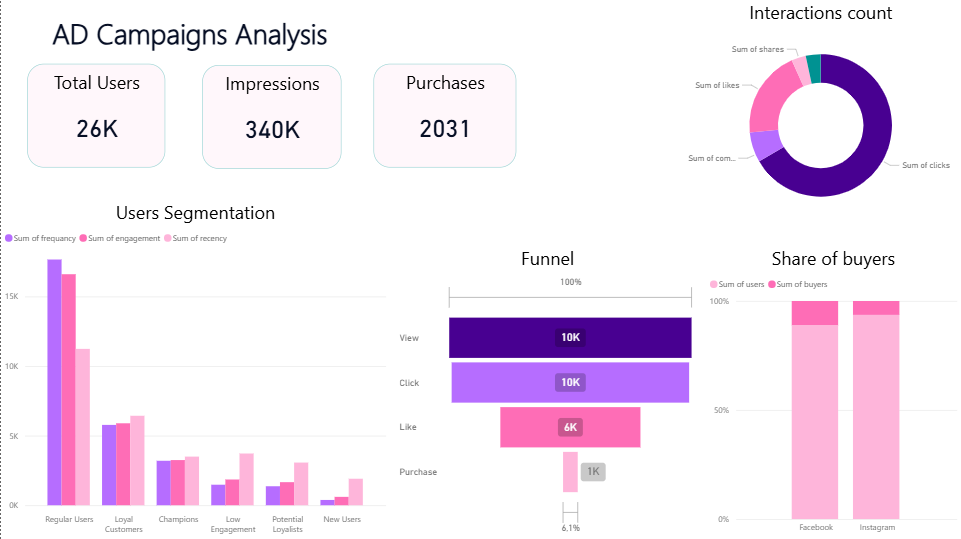

This screenshot's page, from the dashboard's own definition file:
{"tool":"powerbi","page":{"name":"ad dashboard","canvas":[1280,720],"ordinal":0},"visuals":[{"type":"clusteredColumnChart","title":"Users Segmentation","fields":{"Category":["Query1.segment"],"Y":["Sum(Query1.f_score)","Sum(Query1.e_score)","Sum(Query1.r_score)"]},"box":[0,266.6,518.5,453.7],"z":0},{"type":"funnel","title":"Funnel","fields":{"Category":["Query2.step"],"Y":["Sum(Query2.users_cnt)"]},"box":[527.1,328.6,404.3,391.4],"z":1000},{"type":"hundredPercentStackedColumnChart","title":"Share of buyers","fields":{"Category":["Query3.ad_platform"],"Y":["Sum(Query3.total_users)","Sum(Query3.buyers)"]},"box":[940,328.6,340,391.4],"z":2000},{"type":"card","title":"Total Users","fields":{"Values":["Sum(funnel.users_cnt)"]},"box":[35.7,85.7,184.3,138.6],"z":3000},{"type":"donutChart","title":"Interactions count","fields":{"Y":["Sum(Query1.clicks)","Sum(Query1.comms)","Sum(Query1.likes)","Sum(Query1.shares)","Sum(share of buyers.purchases)"]},"box":[907.1,0,372.9,302.9],"z":4000},{"type":"card","title":"Impressions","fields":{"Values":["Sum(Query1.impressions)"]},"box":[268.6,87.1,185.7,138.6],"z":5000},{"type":"card","title":"Purchases","fields":{"Values":["Sum(share of buyers.purchases)"]},"box":[497.1,85.7,190,138.6],"z":6000},{"type":"textbox","box":[62.9,12.9,1158.6,72.9],"z":7001}]}

Visuals, with their boxes in screenshot pixels (x1, y1, x2, y2), scaled from the page's 1280x720 canvas onto the 961x539 screenshot:
"Users Segmentation" clusteredColumnChart: <region>0, 200, 389, 538</region>
"Funnel" funnel: <region>396, 246, 699, 538</region>
"Share of buyers" hundredPercentStackedColumnChart: <region>706, 246, 960, 538</region>
"Total Users" card: <region>27, 64, 165, 168</region>
"Interactions count" donutChart: <region>681, 0, 960, 227</region>
"Impressions" card: <region>202, 65, 341, 169</region>
"Purchases" card: <region>373, 64, 516, 168</region>
textbox: <region>47, 10, 917, 64</region>
